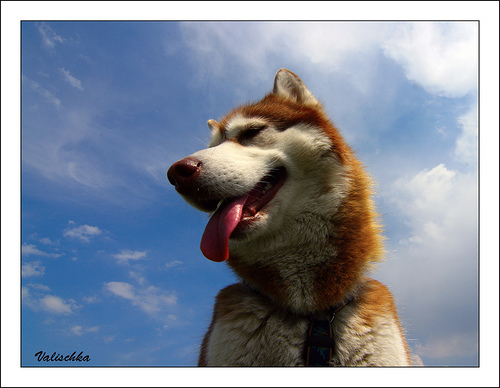dog: (165, 68, 425, 366)
